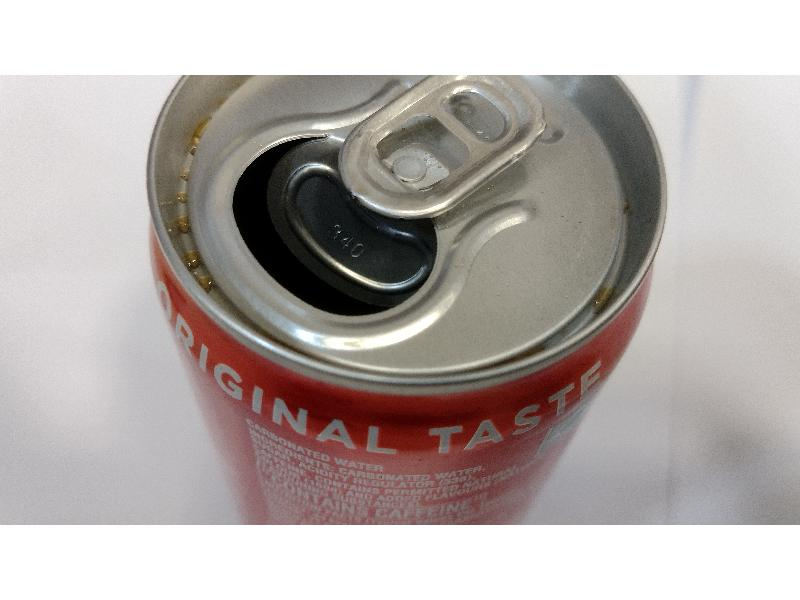can: (136, 71, 670, 527)
